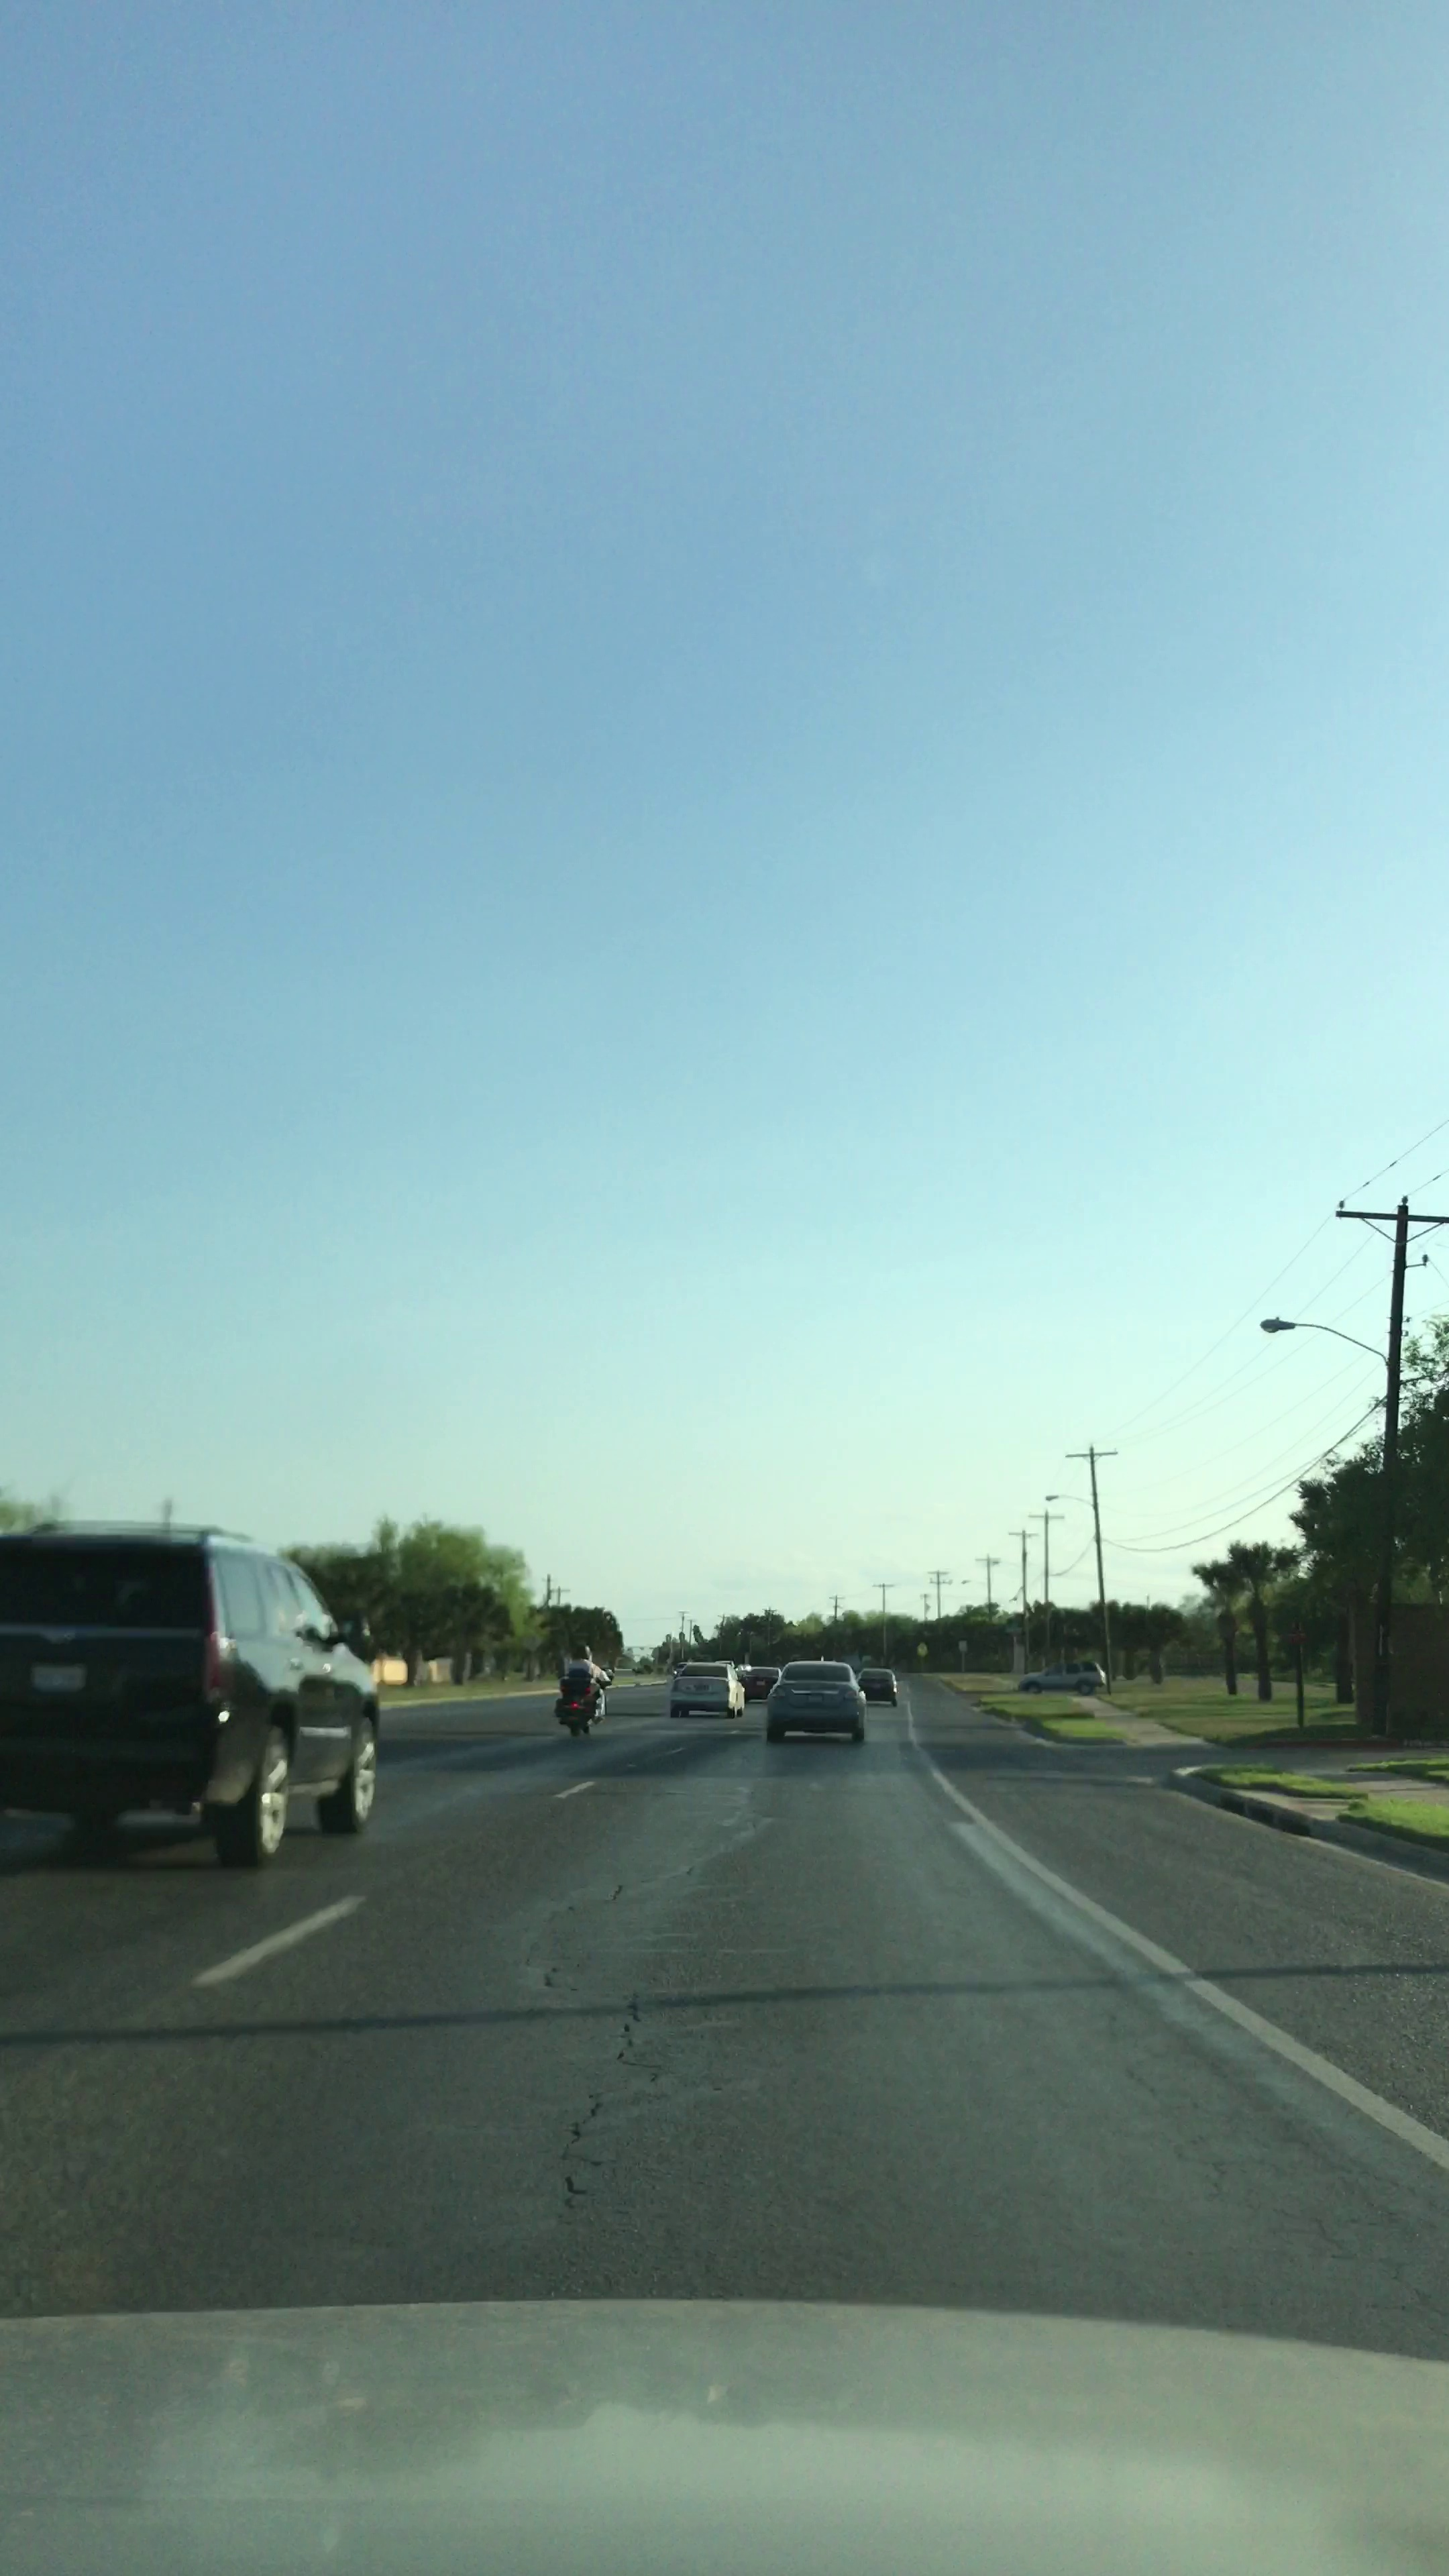crack: (531, 1962, 688, 2235)
